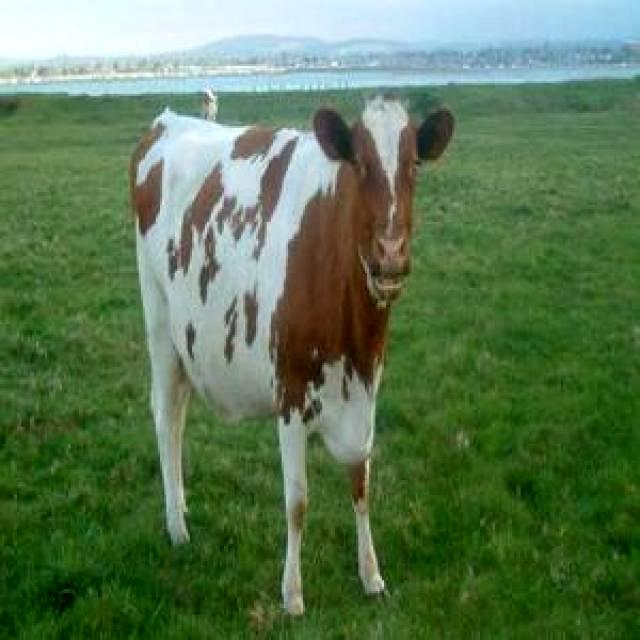COW: (132, 96, 454, 613)
